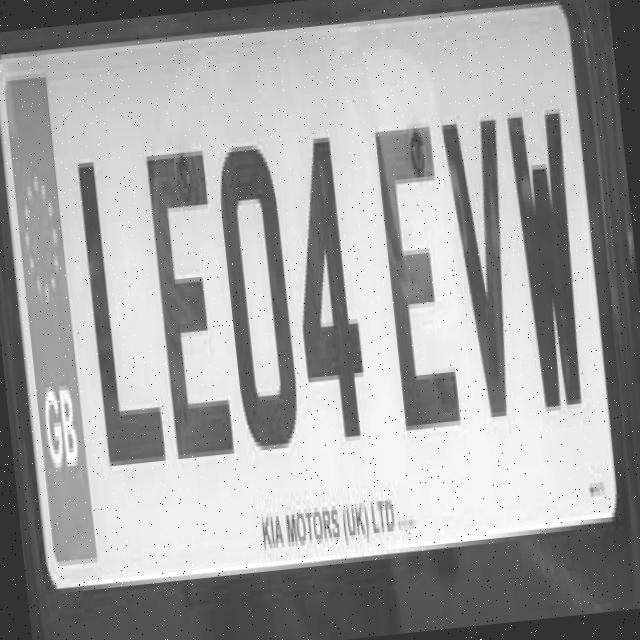EU: (0, 22, 611, 585)
Grece: (0, 70, 98, 569)
